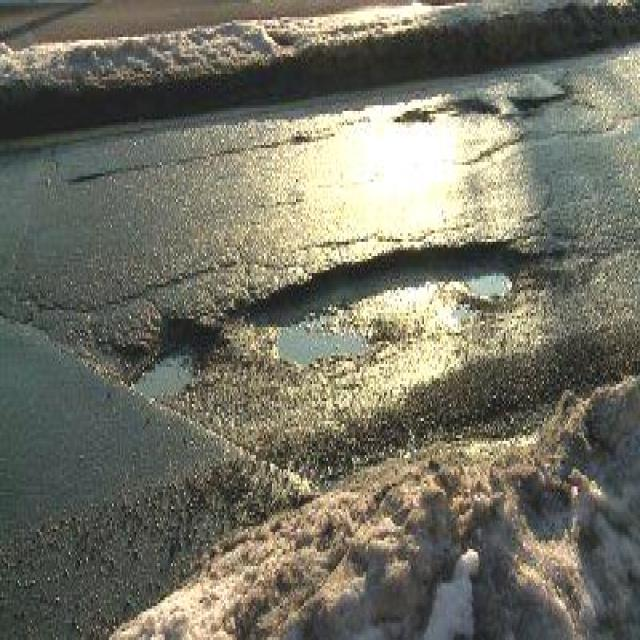pothole: (232, 232, 586, 380), (113, 321, 217, 424), (506, 88, 578, 114)
